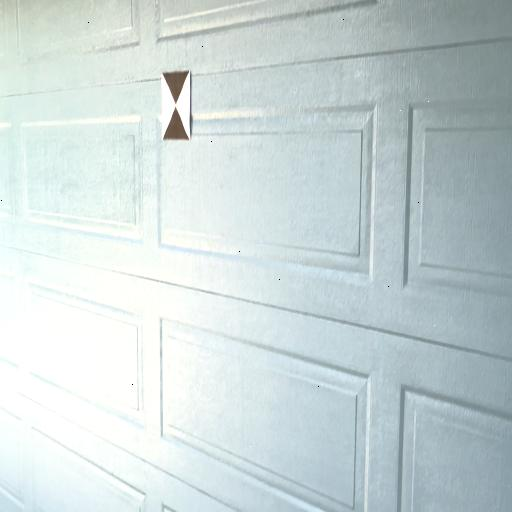target: (161, 73, 192, 140)
